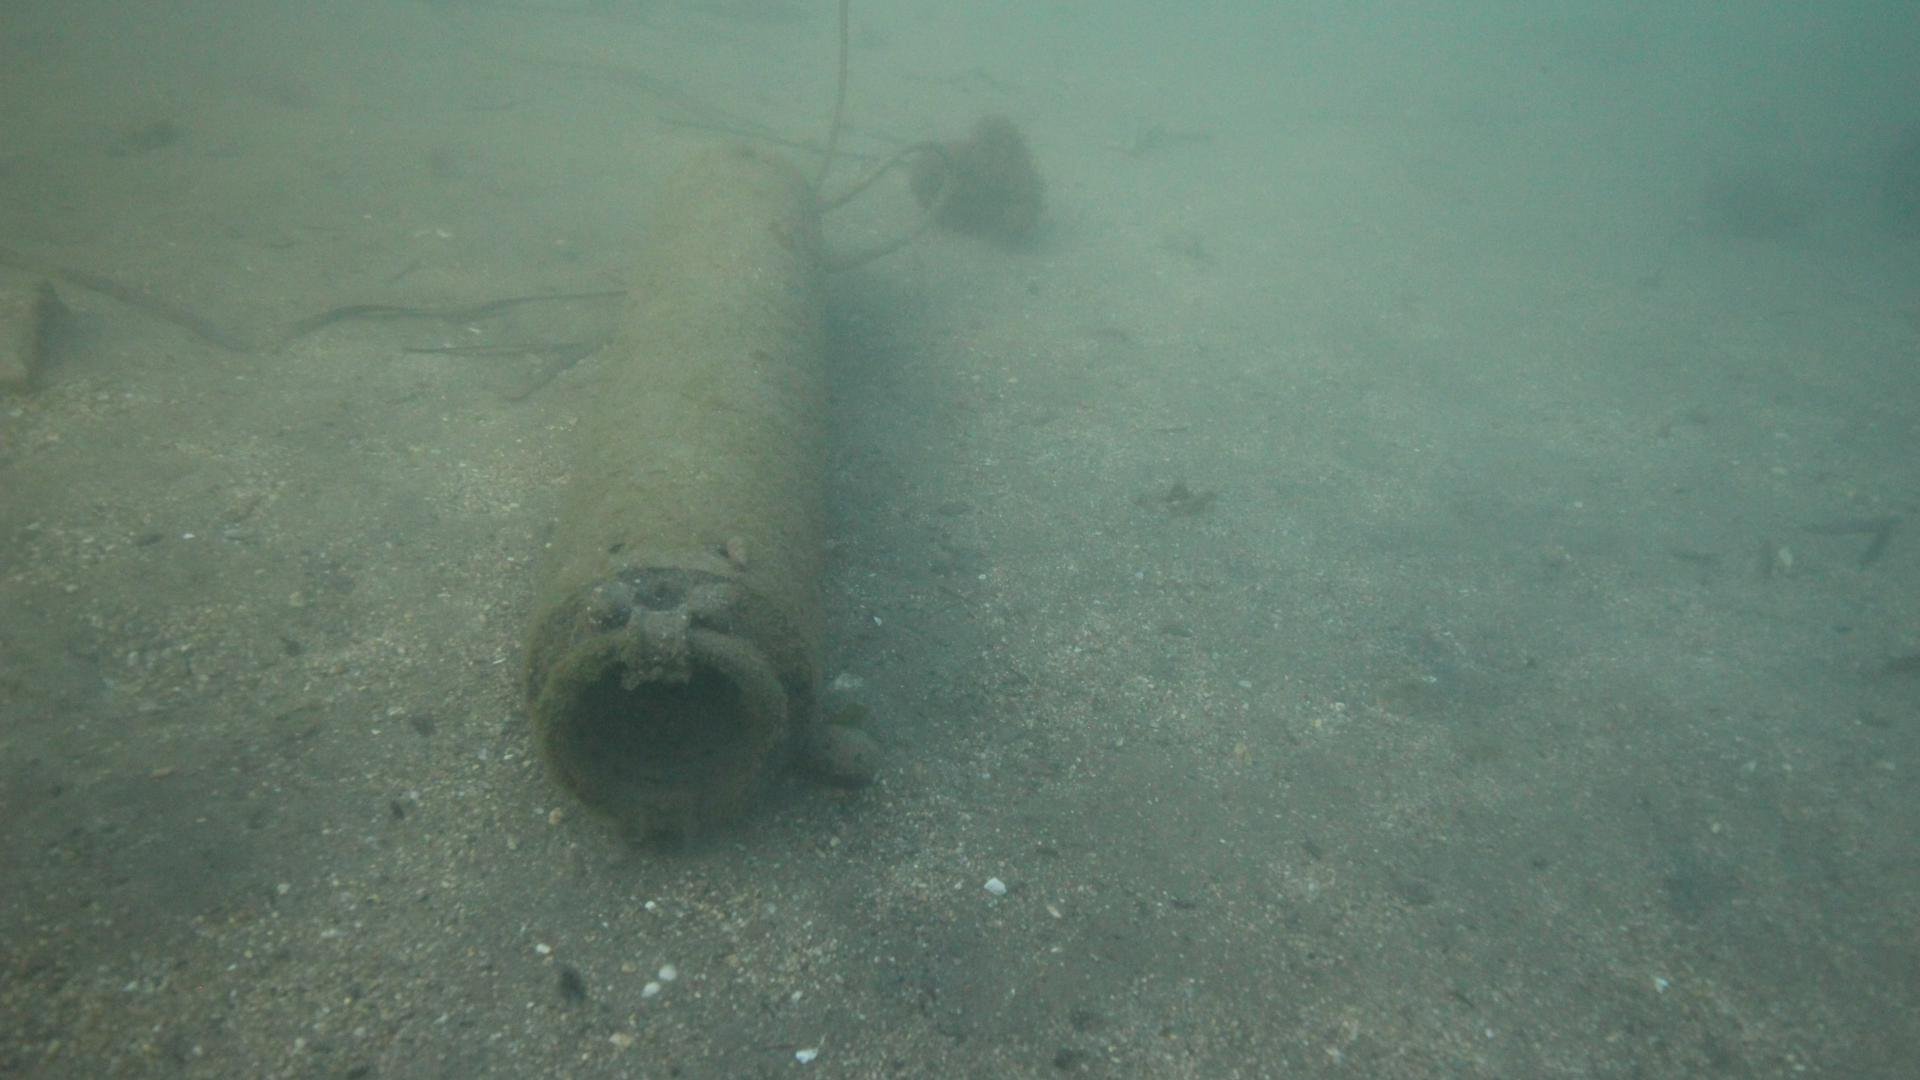eel fish trap: (529, 136, 833, 832)
rope: (807, 136, 957, 274)
